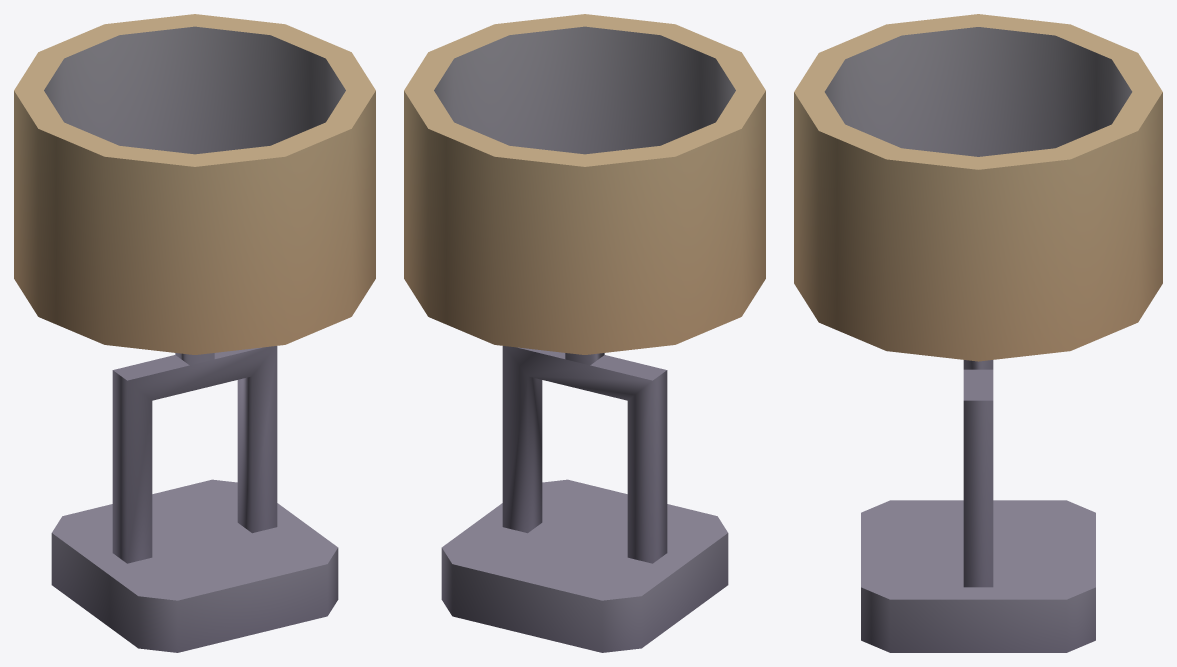
Rendered from lamp-fork-table.glb.
3 renders of one model, left to right at view 1: azimuth 30°, elevation 25°; view 2: azimuth 150°, elevation 25°; view 3: azimuth 270°, elevation 25°, orthographic.
Visible parts, largest first — view 1: lamp-fork-table; view 2: lamp-fork-table; view 3: lamp-fork-table.
Boxes of the visible parts, left/top/right/bottom form: lamp-fork-table: left=14, top=14, right=375, bottom=652; lamp-fork-table: left=404, top=14, right=765, bottom=652; lamp-fork-table: left=794, top=14, right=1162, bottom=652.
Size of the model in its own units: 0.3137 by 0.4799 by 0.3137.
